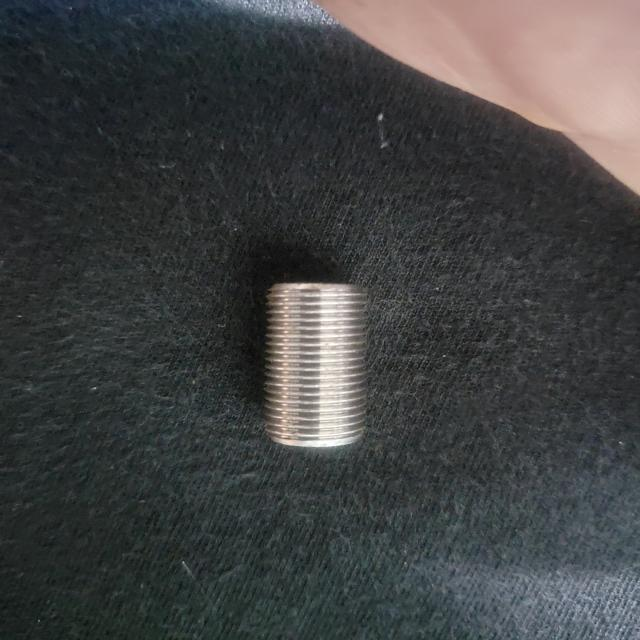Normal: (262, 274, 372, 458)
